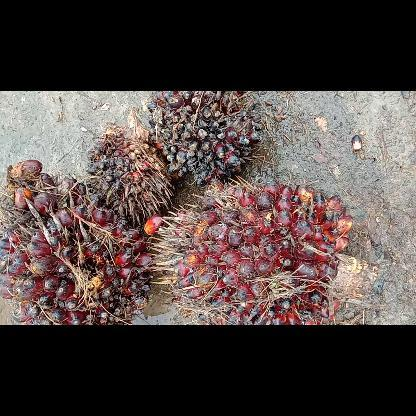Kurang masak: (0, 160, 154, 324)
TBS abnormal: (146, 90, 264, 186), (84, 106, 174, 224)
TBS masak: (147, 176, 378, 324)
